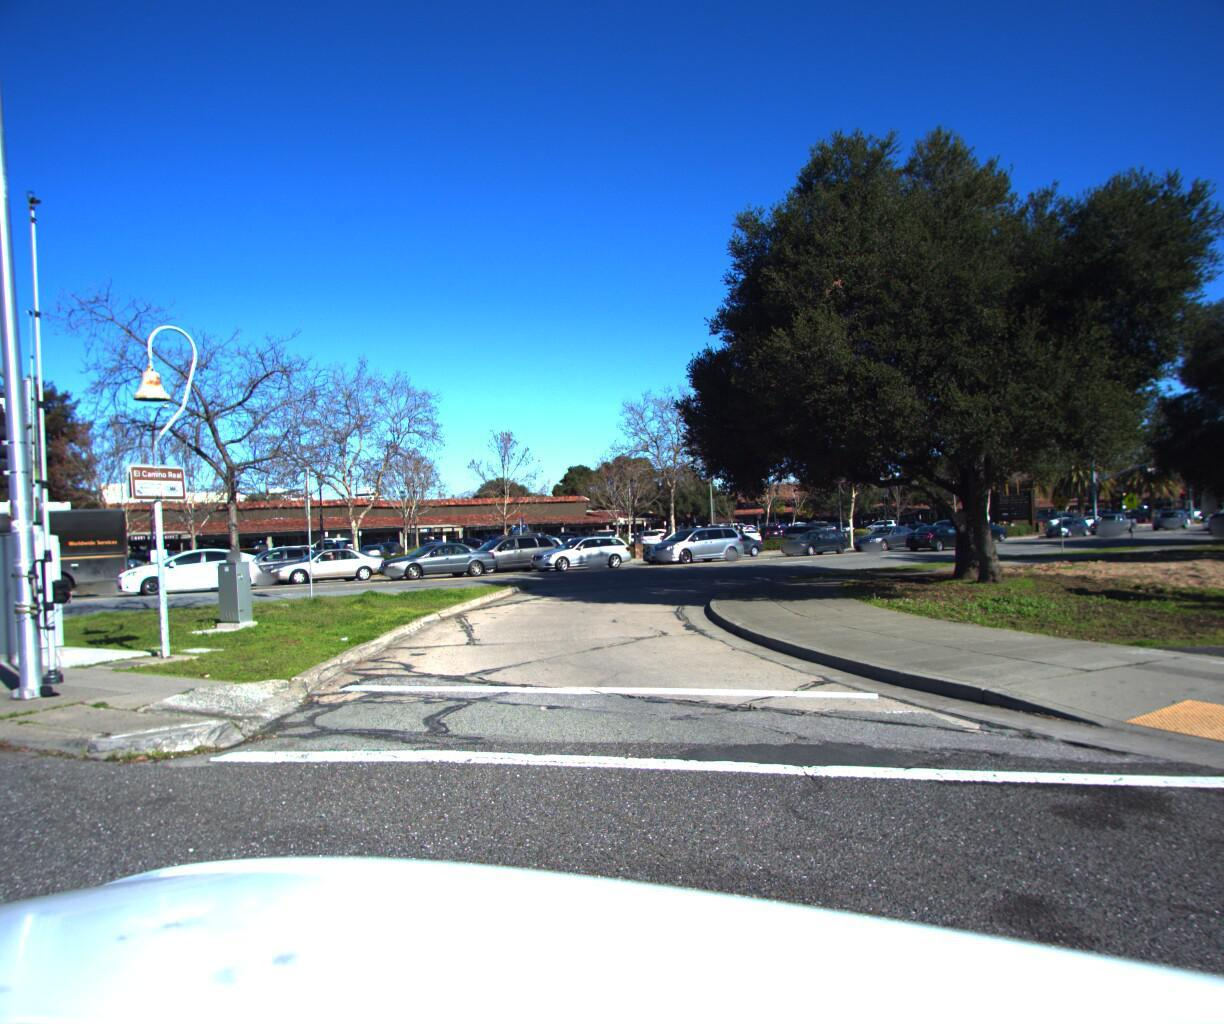car: (103, 538, 271, 592), (220, 536, 341, 585), (368, 533, 500, 575), (258, 539, 384, 582), (460, 525, 570, 568), (521, 526, 635, 566), (639, 516, 746, 559), (535, 526, 625, 564), (772, 520, 855, 552), (899, 514, 976, 545), (845, 519, 923, 546), (776, 516, 843, 541), (1041, 513, 1090, 537), (1087, 507, 1129, 529), (1201, 505, 1224, 532)
